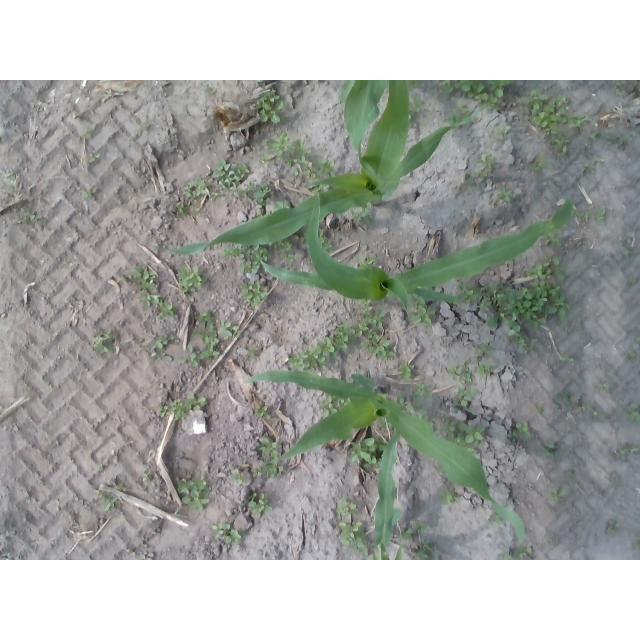Maize: (242, 370, 526, 560), (157, 107, 486, 254), (260, 191, 574, 318), (339, 80, 410, 185), (375, 429, 398, 555), (395, 524, 404, 561)
Weeds: (457, 283, 569, 353), (287, 301, 397, 372), (521, 88, 587, 154), (261, 130, 340, 179), (181, 310, 239, 366), (123, 262, 179, 319), (210, 158, 274, 206), (439, 80, 512, 109), (335, 499, 369, 558), (549, 391, 603, 421), (253, 434, 284, 479), (442, 420, 486, 450), (157, 392, 207, 418), (404, 521, 436, 560), (527, 256, 568, 286), (140, 335, 178, 364), (178, 478, 211, 510), (349, 437, 380, 468), (240, 243, 271, 273), (179, 267, 210, 296), (409, 295, 438, 325), (257, 90, 283, 123), (180, 175, 212, 201), (445, 359, 476, 385), (450, 389, 482, 414), (214, 524, 242, 549), (240, 282, 269, 306), (249, 492, 275, 518), (96, 327, 121, 353), (448, 101, 471, 126), (411, 92, 426, 129), (95, 489, 119, 512), (478, 155, 502, 178), (229, 461, 250, 487), (617, 441, 640, 463), (352, 207, 373, 229), (222, 244, 247, 262), (544, 488, 570, 505), (414, 384, 435, 405), (584, 155, 605, 176), (607, 133, 634, 149), (512, 420, 533, 440), (278, 241, 294, 267), (317, 397, 340, 415), (542, 442, 562, 461), (82, 186, 103, 204), (398, 361, 414, 384), (171, 198, 189, 218), (440, 488, 461, 505), (618, 236, 635, 257), (18, 207, 36, 226), (478, 364, 497, 381), (547, 234, 566, 251), (254, 405, 274, 421), (533, 154, 548, 175), (399, 396, 417, 413), (244, 344, 260, 360), (496, 189, 513, 204), (357, 257, 379, 268), (112, 478, 128, 493), (498, 121, 514, 136), (608, 518, 622, 535), (628, 403, 640, 422), (595, 379, 610, 394), (465, 172, 479, 188), (625, 277, 637, 295), (3, 173, 17, 188), (574, 210, 591, 222), (595, 209, 606, 227), (88, 150, 100, 166), (142, 469, 154, 484), (488, 516, 504, 527), (615, 81, 624, 99), (276, 199, 292, 209), (561, 355, 575, 366), (626, 350, 637, 363), (629, 82, 640, 95), (83, 128, 94, 140), (588, 129, 598, 142), (523, 548, 534, 559), (203, 84, 215, 94), (420, 410, 431, 420), (565, 467, 576, 477), (536, 406, 545, 417), (141, 123, 151, 131), (410, 81, 421, 87), (547, 536, 554, 545), (45, 381, 52, 386), (636, 336, 640, 344)
